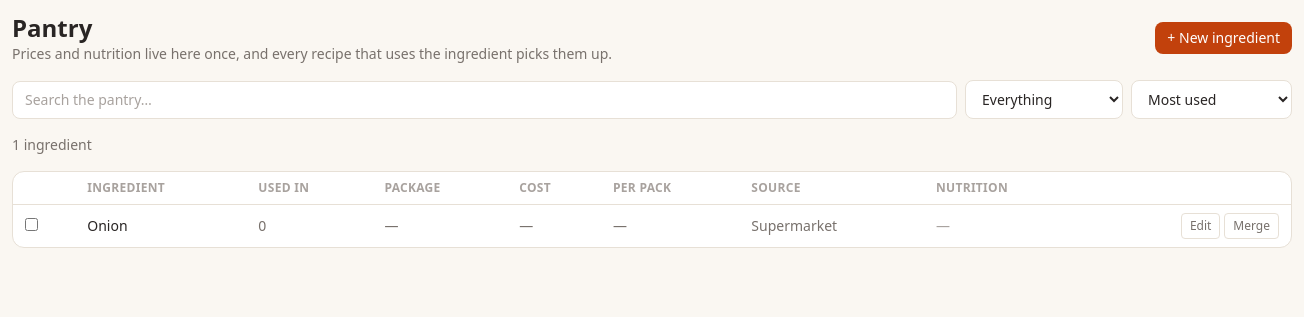
Test: PantryPage multi-merge (flag on) › selecting one item shows the count but no merge button yet
Click the checkbox named "Select Onion for merging". click: point(32, 224)
box: [25, 218, 38, 231]
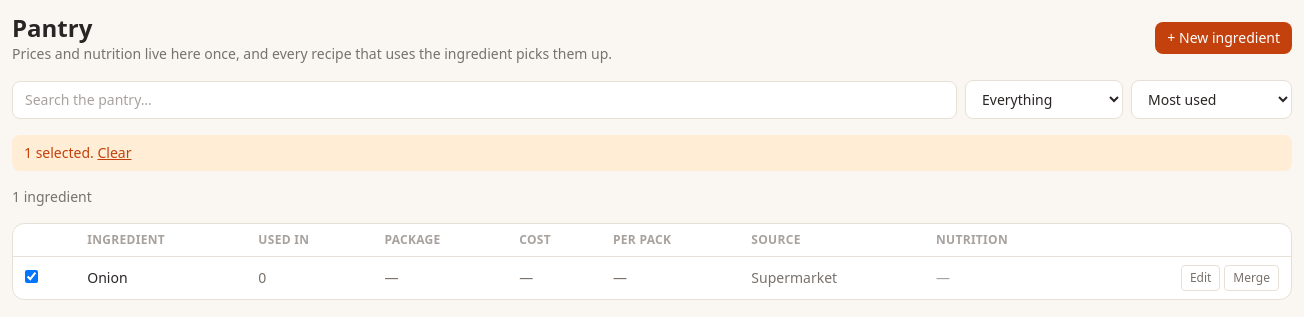
Now the text "1 selected. Clear" is shown, box [12, 135, 1292, 171]
